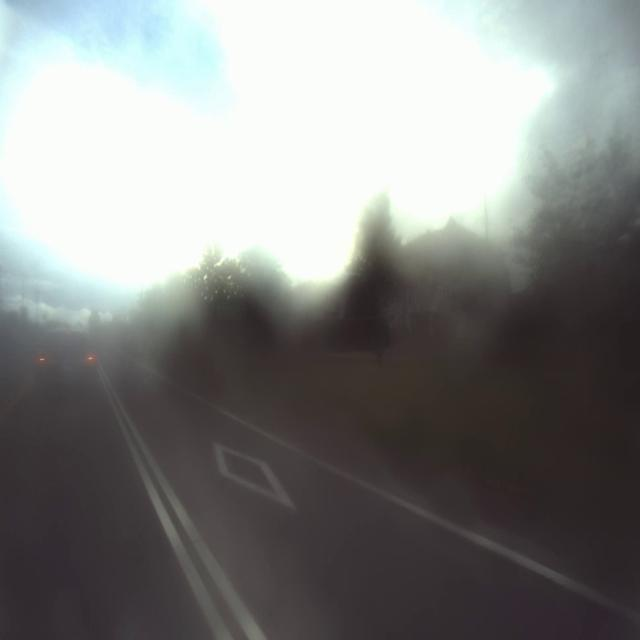car: (31, 319, 100, 409)
